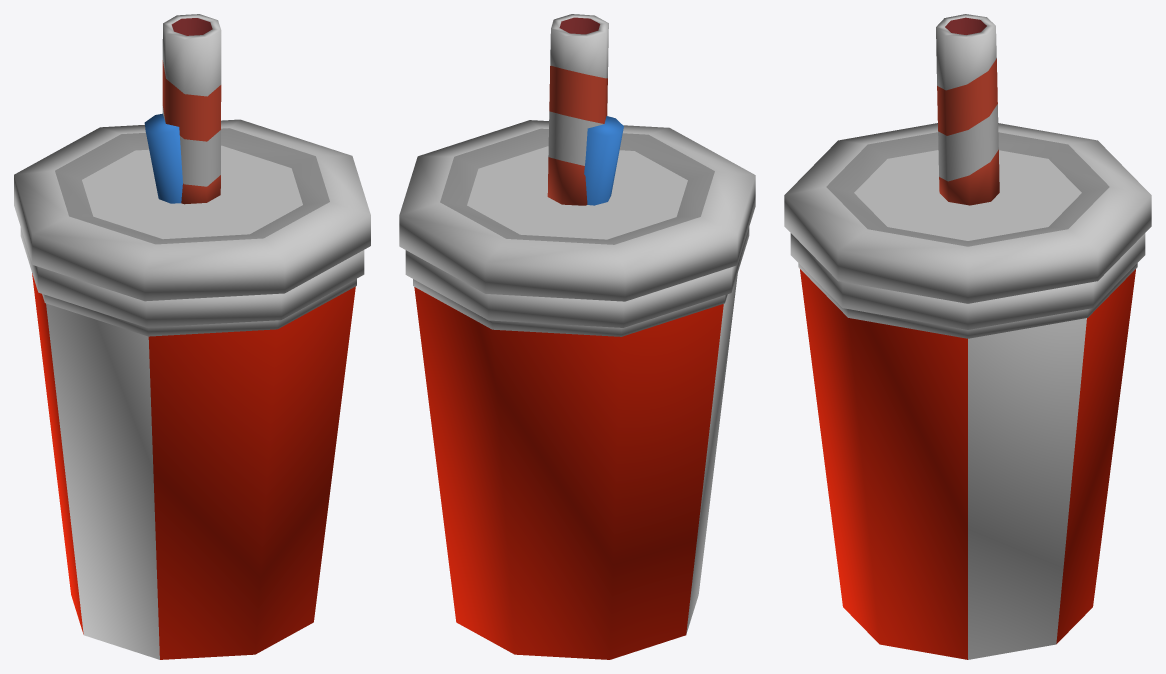
Rendered from Coke1.fbx.
The picture shows the model from 3 angles, left to right: view 1: azimuth 30°, elevation 25°; view 2: azimuth 150°, elevation 25°; view 3: azimuth 270°, elevation 25°; orthographic projection.
Parts seen in each view (by area): view 1: Coke1; view 2: Coke1; view 3: Coke1.
Part boxes in pixels (x1=…): Coke1: x1=14, y1=14, x2=370, y2=659; Coke1: x1=399, y1=14, x2=755, y2=659; Coke1: x1=784, y1=14, x2=1151, y2=659.
Size of the model in its own units: 38.44 by 67.02 by 38.44.
1 material, 1 textured.
